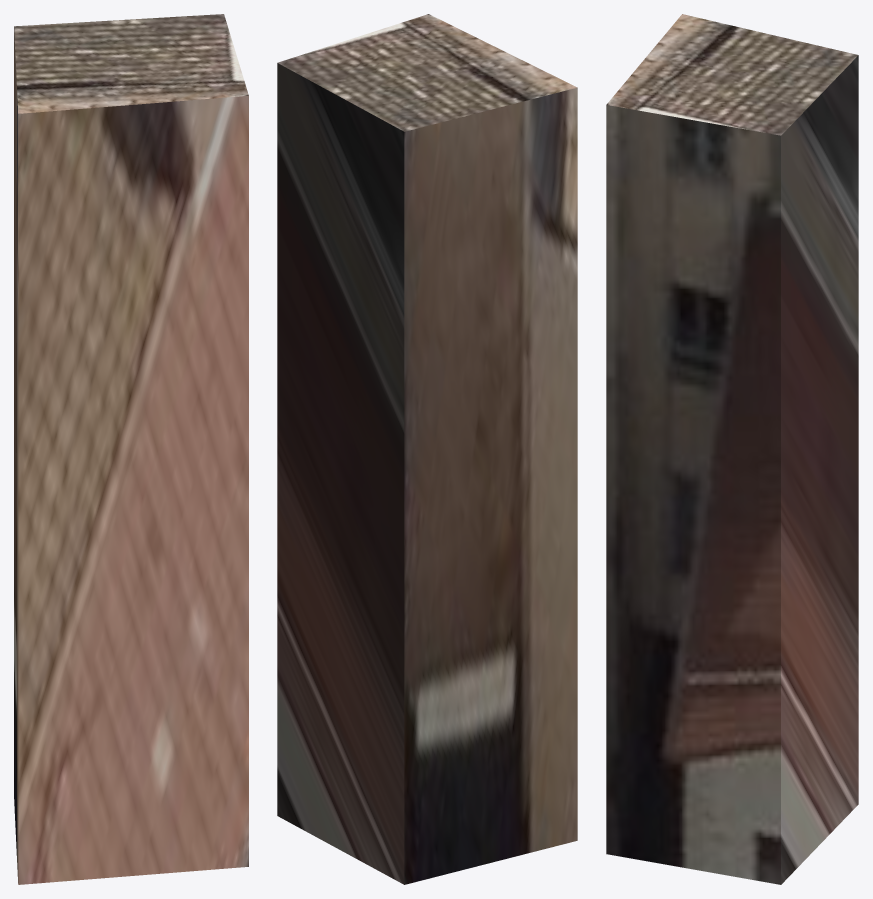
3 views of the same model, side by side, from view 1: azimuth 30°, elevation 25°; view 2: azimuth 150°, elevation 25°; view 3: azimuth 270°, elevation 25° (orthographic). The views are drawn at different scales.
Parts seen in each view (by area): view 1: Z_UP; view 2: Z_UP; view 3: Z_UP.
Part boxes in pixels (x1,y1,x2,y2): Z_UP: [14, 14, 248, 884]; Z_UP: [277, 14, 577, 884]; Z_UP: [606, 14, 858, 884].
Size of the model in its own units: 5.26 by 15.1 by 4.61.
2 materials, 1 textured.
